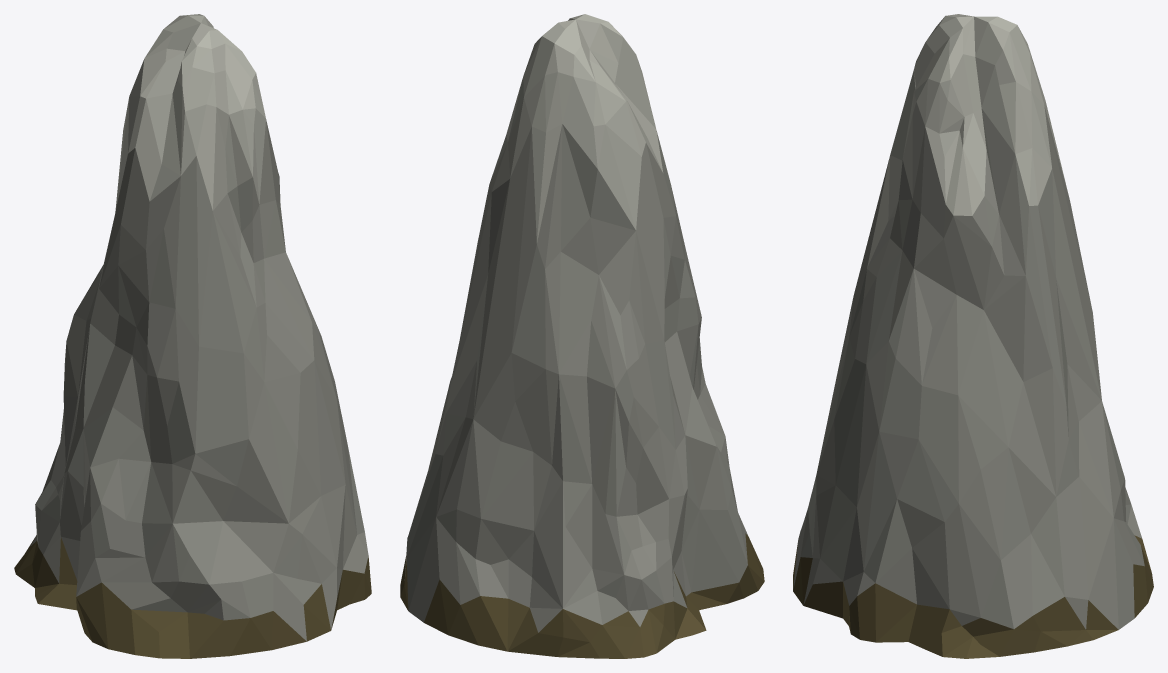
Rendered from Mountain-XY4ej3Zg3I.glb.
3 renders of one model, left to right at view 1: azimuth 30°, elevation 25°; view 2: azimuth 150°, elevation 25°; view 3: azimuth 270°, elevation 25°, orthographic.
Visible parts, largest first — view 1: MountainLarge_Single; view 2: MountainLarge_Single; view 3: MountainLarge_Single.
Part boxes in pixels (x1=…): MountainLarge_Single: x1=14, y1=14, x2=371, y2=658; MountainLarge_Single: x1=400, y1=14, x2=764, y2=658; MountainLarge_Single: x1=793, y1=14, x2=1153, y2=658.
Bounding box in the file's own units: 1.08 × 1.91 × 1.1.
